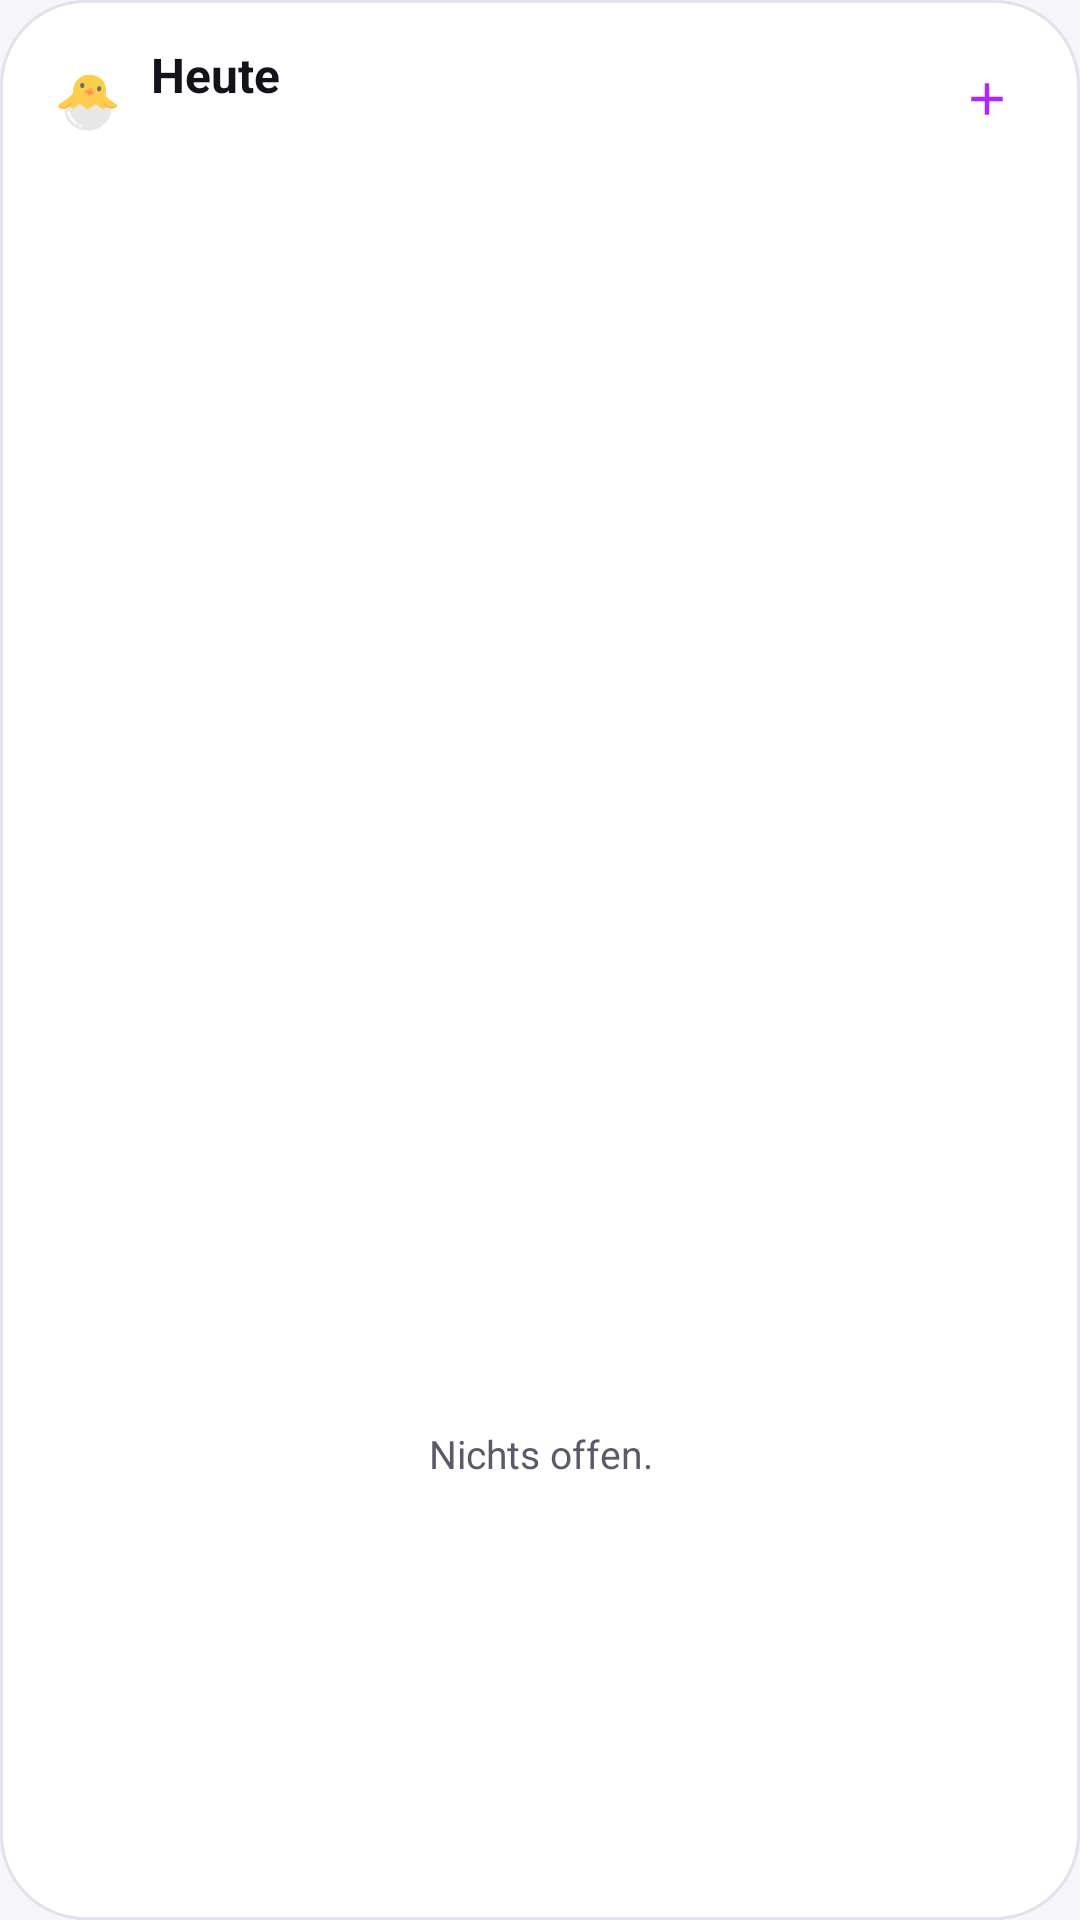

Screen size 1080px×1920px. Icon name, then its box in pixels as Rect(x1, y1, x2, y2):
Aufgabe anlegen: Rect(971, 83, 1003, 115)
